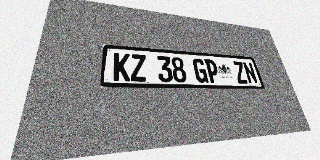3: (157, 56, 173, 82)
8: (171, 57, 187, 82)
G: (192, 58, 209, 83)
K: (113, 53, 130, 81)
N: (242, 62, 258, 84)
P: (204, 59, 221, 83)
Z: (130, 54, 147, 82), (232, 61, 248, 84)
